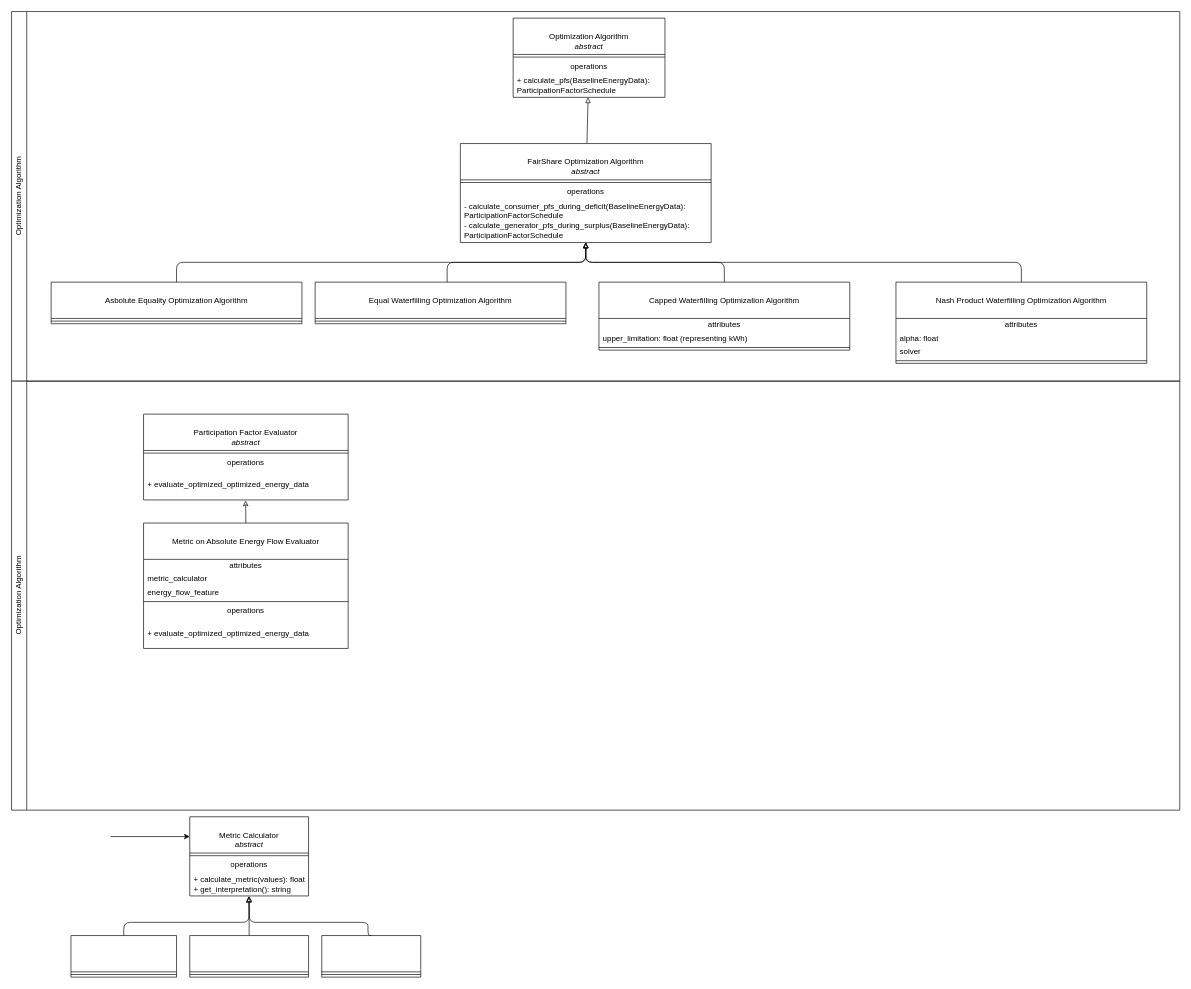
Image size: 1191x989. Some labels were removed from this diagram. Here are the shapes that lost their labels. From the top down, the box of each, then its label:
(70, 935, 177, 977): Theil Index Calcualtor
(189, 935, 309, 977): Gini Calcualtor
(321, 935, 421, 977): Jain Index Calcualtor
